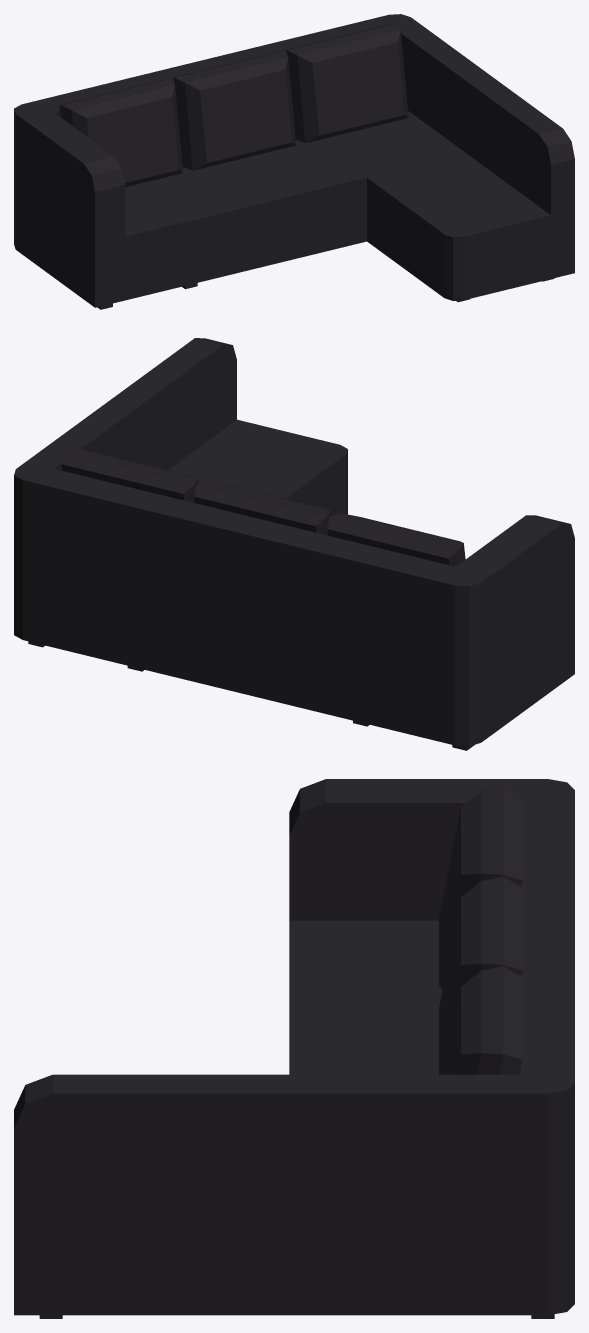
Rendered from Couch.glb.
3 views of the same model, one above another, from view 1: azimuth 30°, elevation 25°; view 2: azimuth 150°, elevation 25°; view 3: azimuth 270°, elevation 25° (orthographic). The views are drawn at different scales.
Visible parts, largest first — view 1: Couch; view 2: Couch; view 3: Couch.
Boxes of the visible parts, left/top/right/bottom form: Couch: left=14, top=14, right=574, bottom=309; Couch: left=14, top=338, right=574, bottom=750; Couch: left=14, top=779, right=574, bottom=1318.
Bounding box in the file's own units: 2.42 × 0.9071 × 1.82.
Materials: 1 (1 with a texture image).
